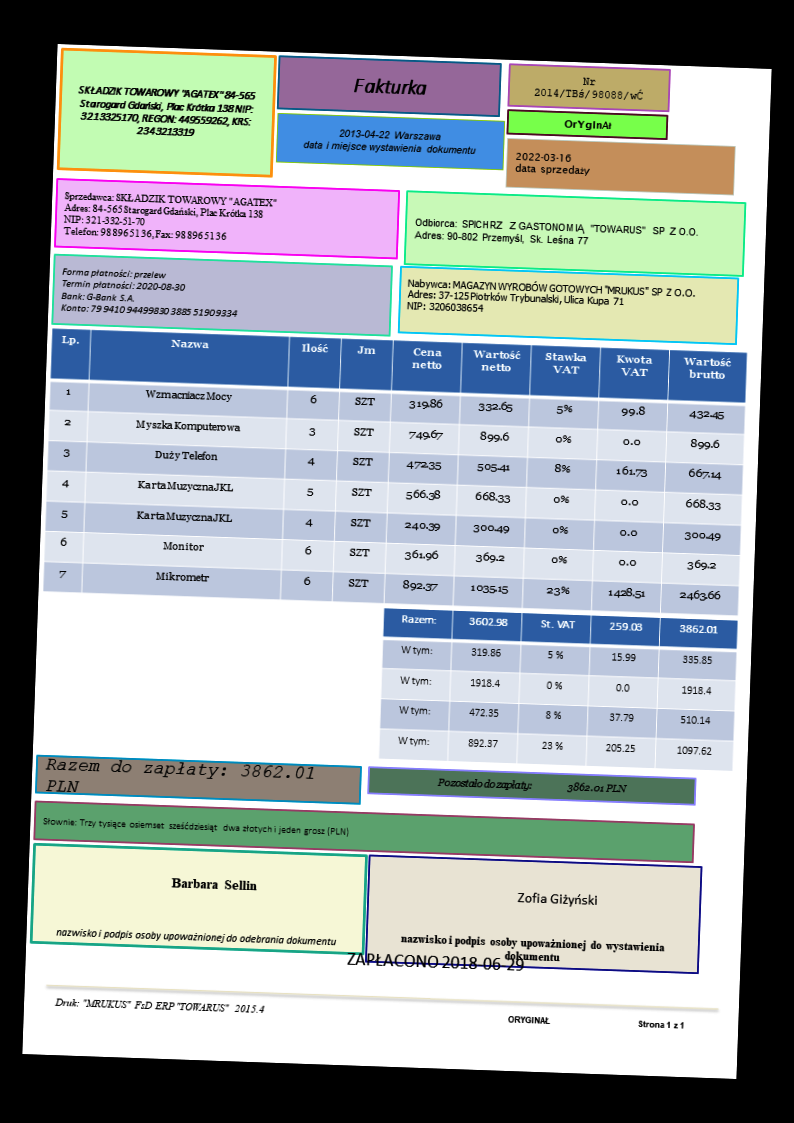Table: (41, 327, 747, 616), (378, 606, 738, 771)
TextBox: (404, 276, 695, 322), (60, 188, 277, 245), (43, 757, 315, 802), (73, 82, 257, 143), (413, 215, 702, 252), (58, 264, 241, 321), (398, 932, 667, 967), (41, 815, 351, 839), (53, 925, 337, 950), (301, 125, 479, 158), (54, 995, 267, 1016), (344, 951, 525, 974), (434, 775, 631, 796), (531, 72, 646, 102), (506, 1012, 686, 1031), (512, 149, 593, 179), (350, 76, 428, 97), (515, 890, 600, 909), (169, 876, 257, 893), (562, 117, 615, 133)
